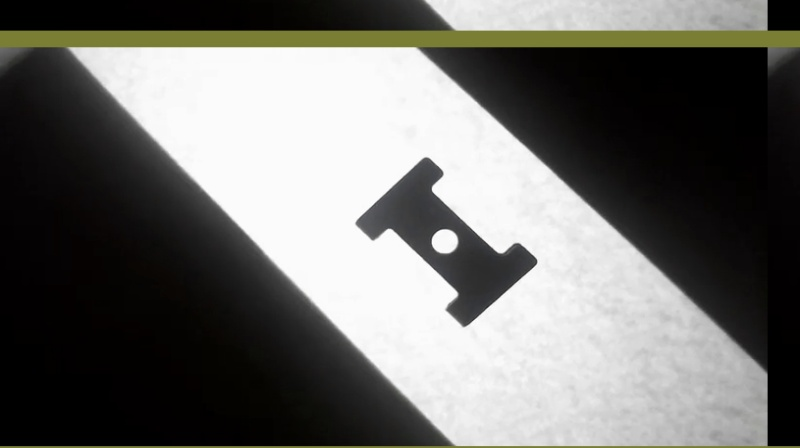O002: (352, 155, 540, 331)
